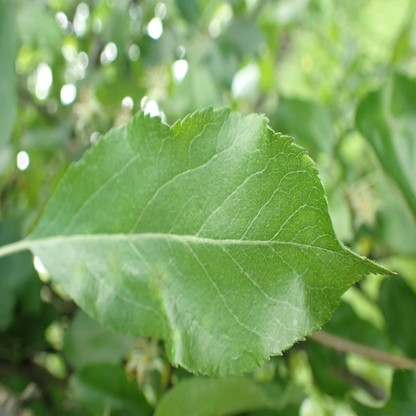scab: (146, 264, 166, 294)
